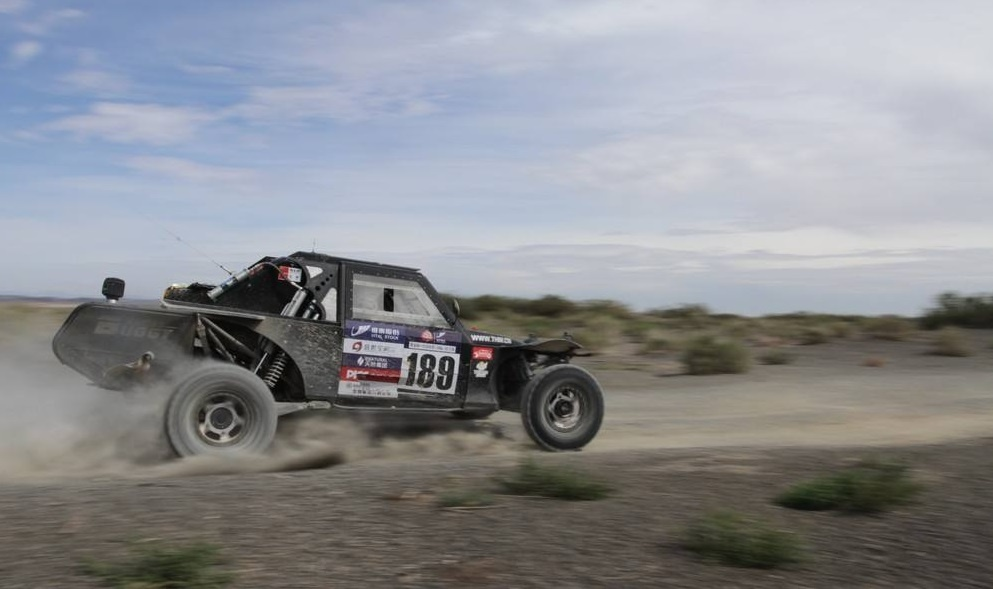racing car: (49, 258, 606, 471)
